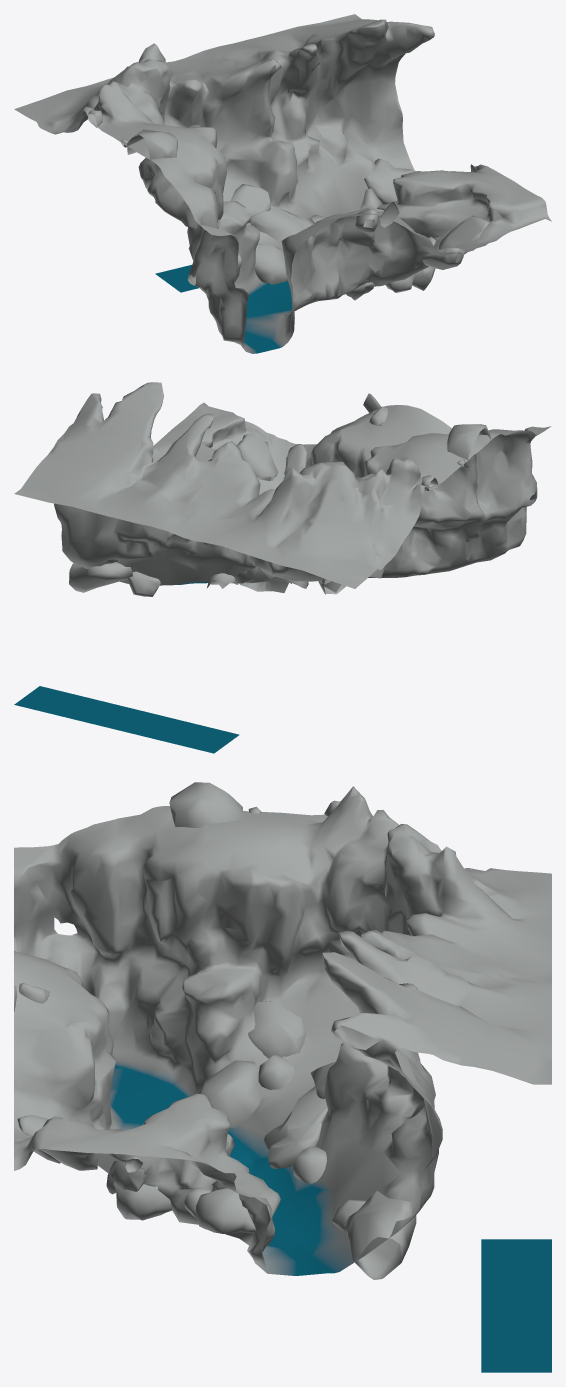
The picture shows the model from 3 angles, top to bottom: view 1: azimuth 30°, elevation 25°; view 2: azimuth 150°, elevation 25°; view 3: azimuth 270°, elevation 25°; orthographic projection. The views are drawn at different scales.
Parts seen in each view (by area): view 1: G:\FFXIV-MapTools\exports\s1f3\bg\ffxiv\sea_s1\fld\s1f3\bgpl (×20); view 2: G:\FFXIV-MapTools\exports\s1f3\bg\ffxiv\sea_s1\fld\s1f3\bgpl (×19); view 3: G:\FFXIV-MapTools\exports\s1f3\bg\ffxiv\sea_s1\fld\s1f3\bgpl (×20).
Part boxes in pixels (x1,y1,x2,y2): G:\FFXIV-MapTools\exports\s1f3\bg\ffxiv\sea_s1\fld\s1f3\bgpl (×20): (14, 14, 551, 353); G:\FFXIV-MapTools\exports\s1f3\bg\ffxiv\sea_s1\fld\s1f3\bgpl (×19): (14, 382, 551, 753); G:\FFXIV-MapTools\exports\s1f3\bg\ffxiv\sea_s1\fld\s1f3\bgpl (×20): (14, 782, 551, 1372).
Bounding box in the file's own units: 128 × 99.05 × 128.
